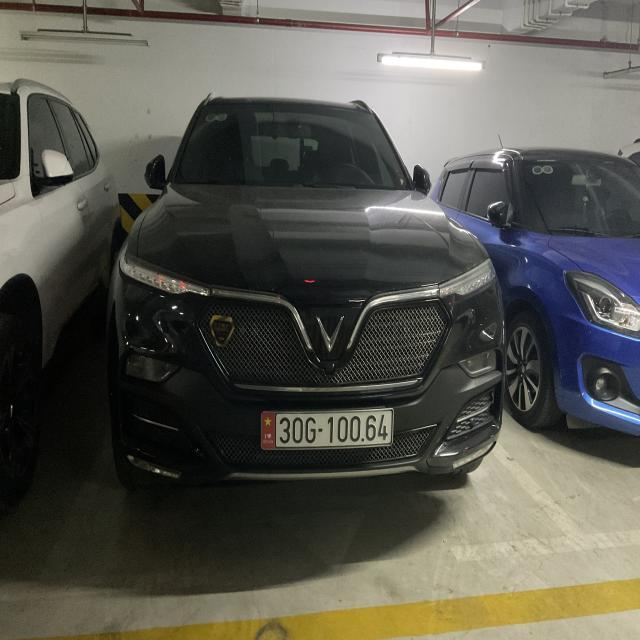license: (259, 407, 394, 451)
